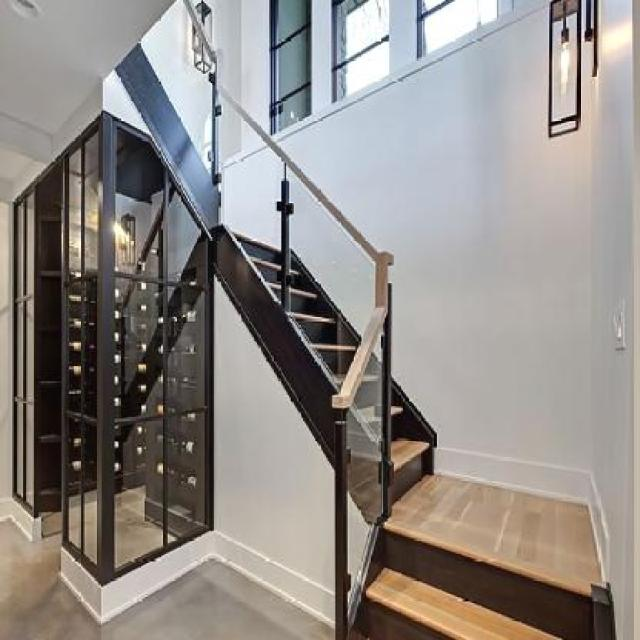stair: (205, 162, 443, 528), (301, 511, 627, 638)
